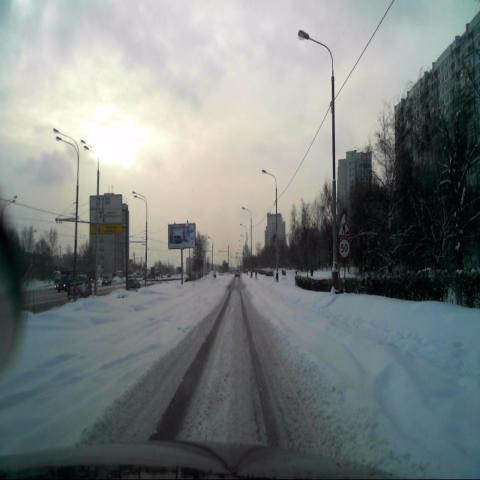1_25: (336, 213, 350, 237)
